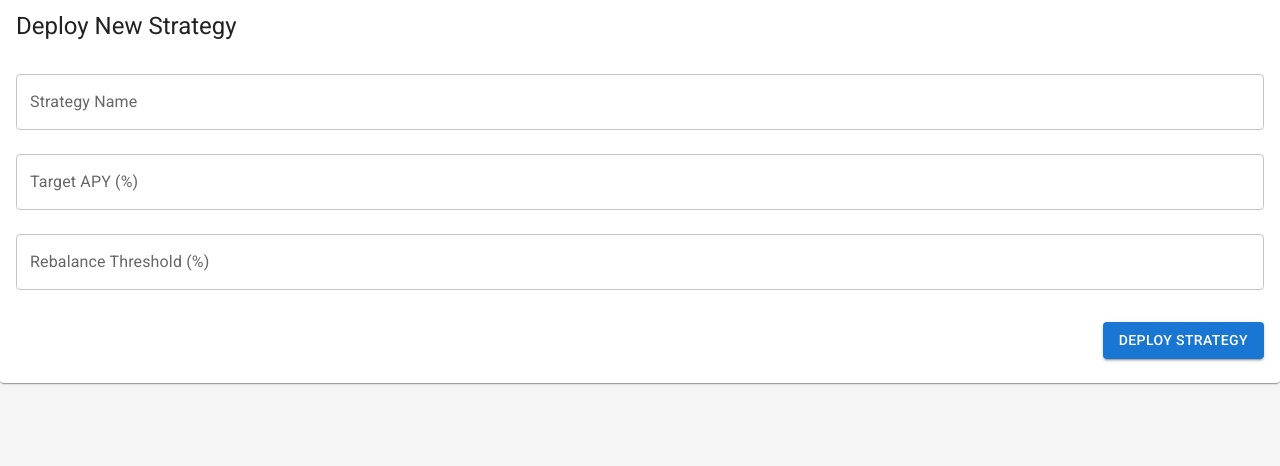
Test: Strategy Component › should handle deployment errors
The image size is (1280, 466).
Type "Test Strategy" into the field labelled "Strategy Name" at [640, 102], box x1=16 y1=74 x2=1264 y2=130
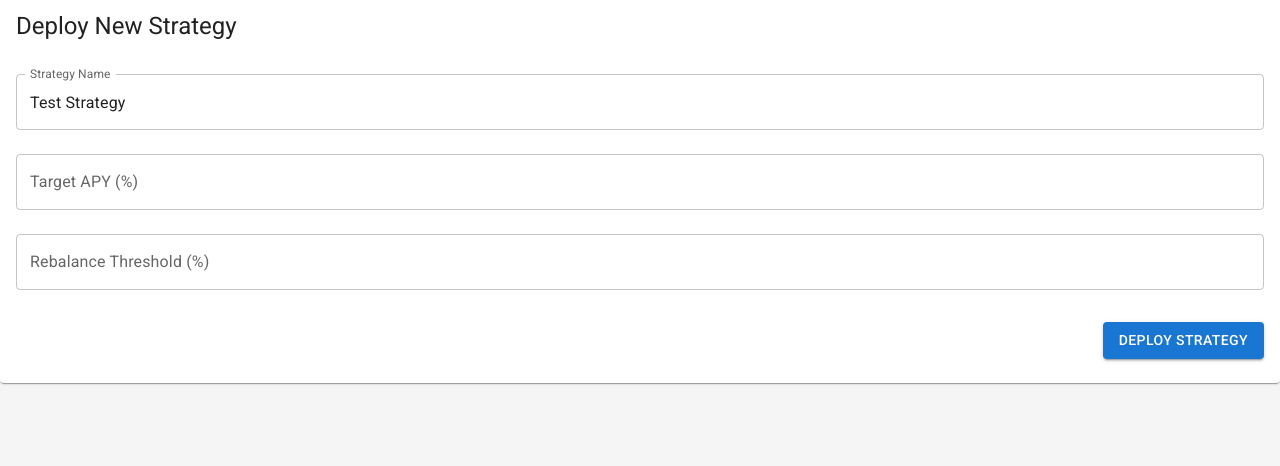
Type "10" into the number field labelled "Target APY (%)" at [640, 182], box x1=16 y1=154 x2=1264 y2=210
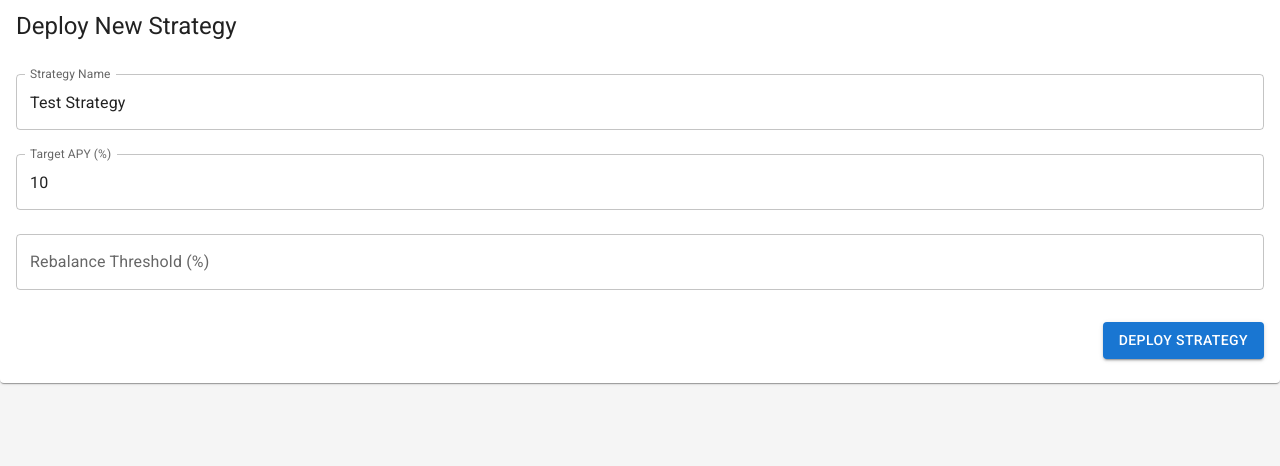
Type "5" into the number field labelled "Rebalance Threshold (%)" at [640, 262], box x1=16 y1=234 x2=1264 y2=290
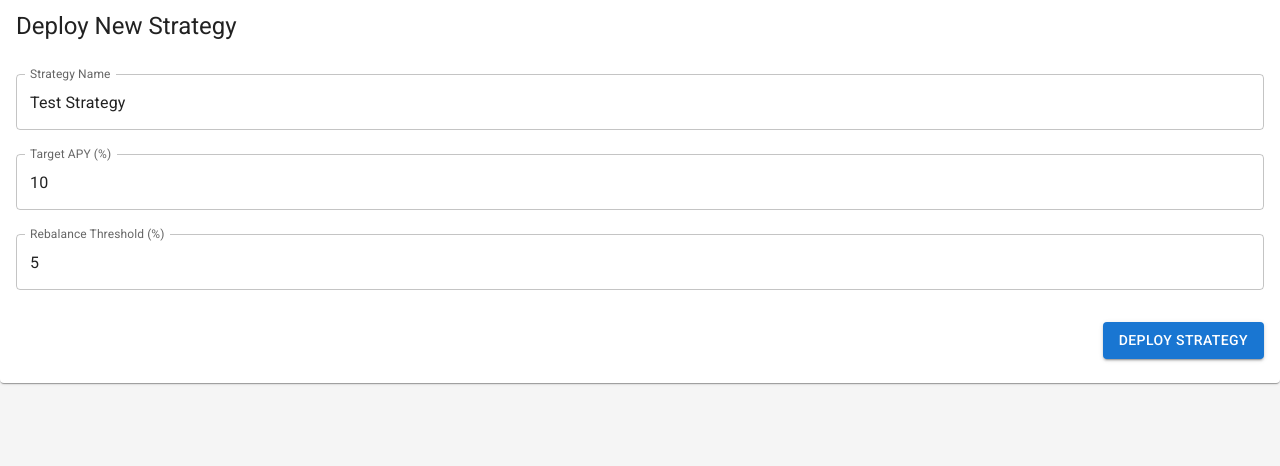
Note: Submit the form
Click the button "Deploy Strategy" at [1183, 340], box x1=1103 y1=322 x2=1264 y2=358
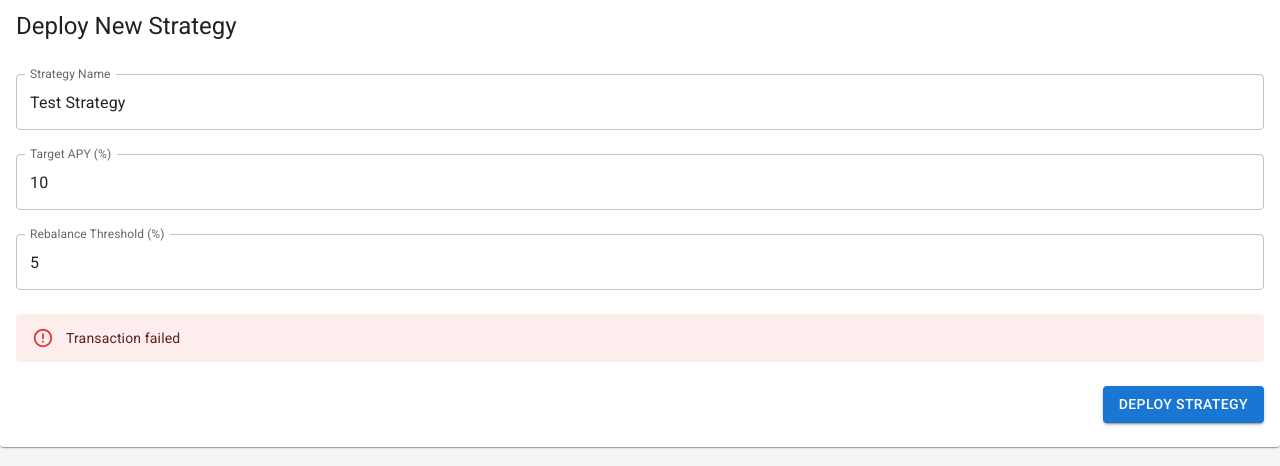
Result: the text "Transaction failed" is shown at x1=66 y1=330 x2=180 y2=346
